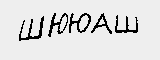Л: (110, 16, 130, 40)
Н: (79, 11, 110, 35), (12, 12, 32, 29)
С: (128, 21, 145, 41)
Ч: (50, 9, 76, 34)
Ң: (32, 10, 53, 36)
